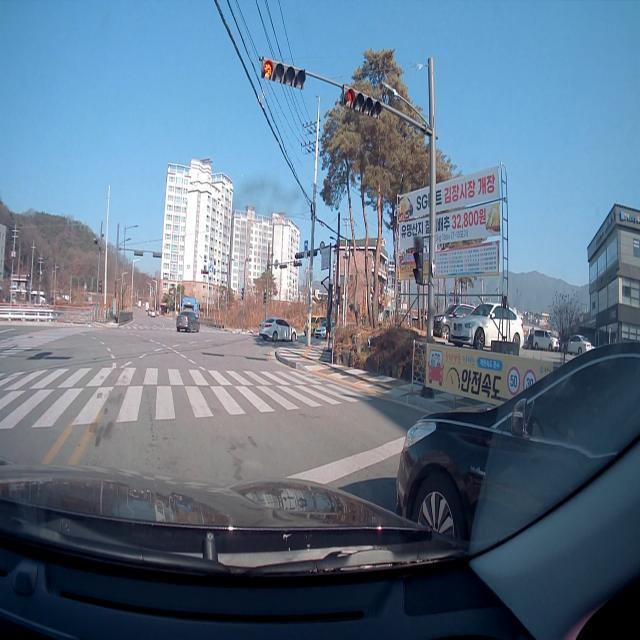crosswalk: (0, 327, 98, 361), (122, 325, 227, 333)
